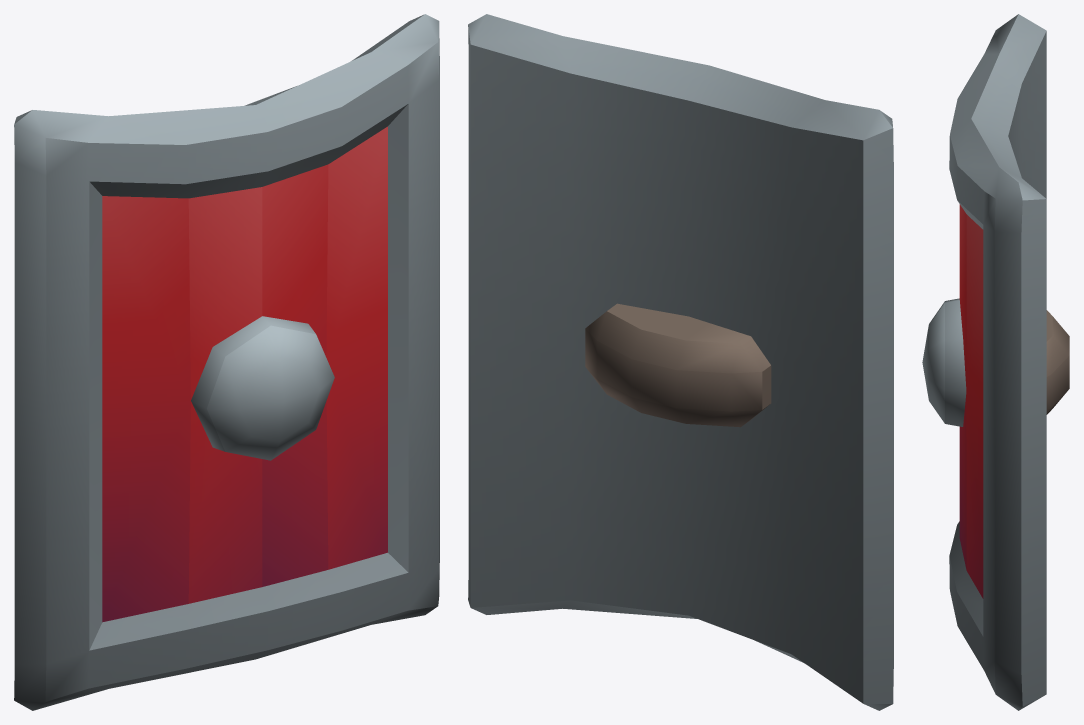
The model's file is shield_square_color.glb.
3 views of the same model, side by side, from view 1: azimuth 30°, elevation 25°; view 2: azimuth 150°, elevation 25°; view 3: azimuth 270°, elevation 25° (orthographic). The views are drawn at different scales.
Size of the model in its own units: 0.8826 by 1.19 by 0.3011.
1 material, 1 textured.
